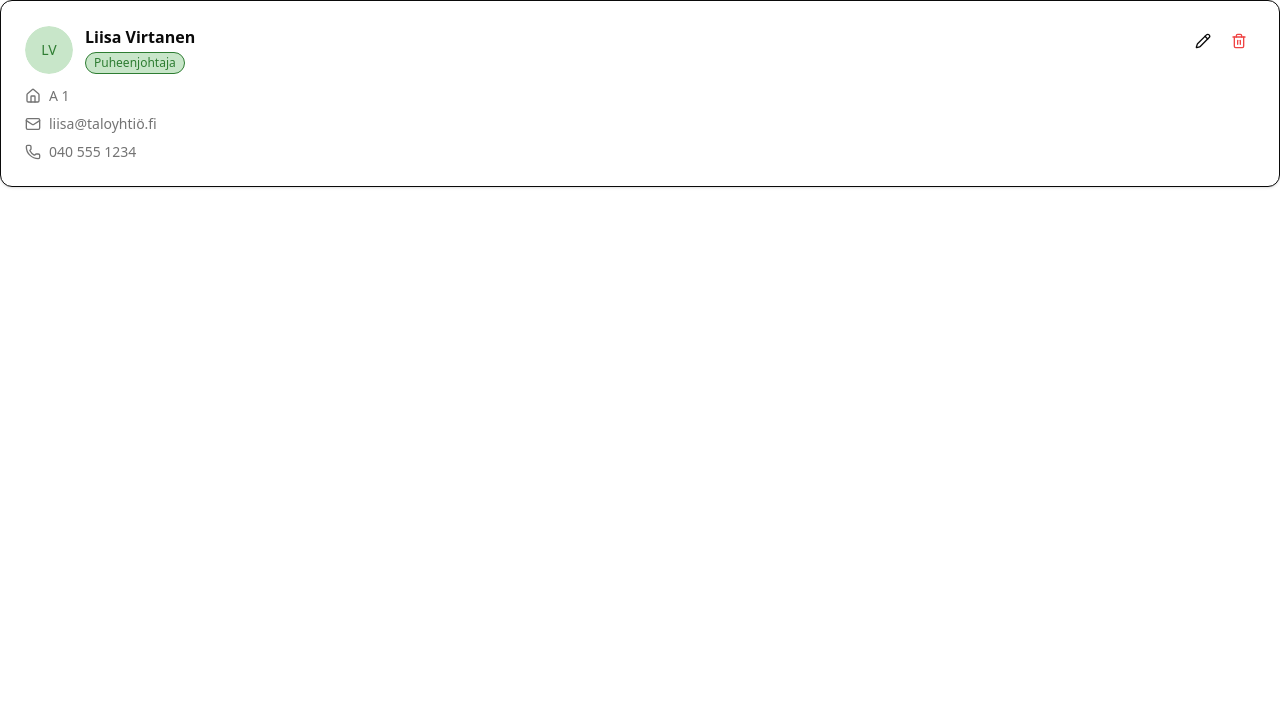
Test case: BoardMemberCard › opens edit dialog when edit button clicked
Click the button named "Muokkaa".
click(1203, 41)  # box [1187,25,1219,57]
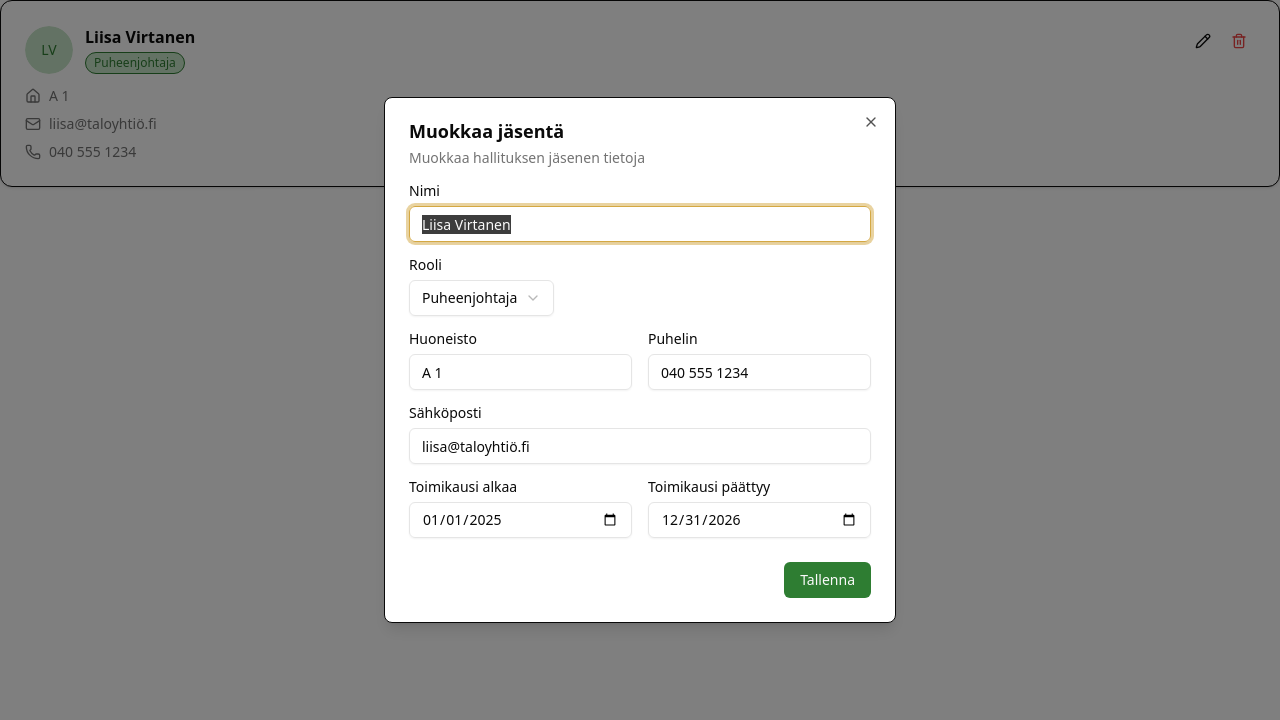
Expected: the heading "Muokkaa jäsentä" is shown, [409,119,564,143]
Expected: the field labelled "Nimi" holds "Liisa Virtanen", [409,206,871,242]
